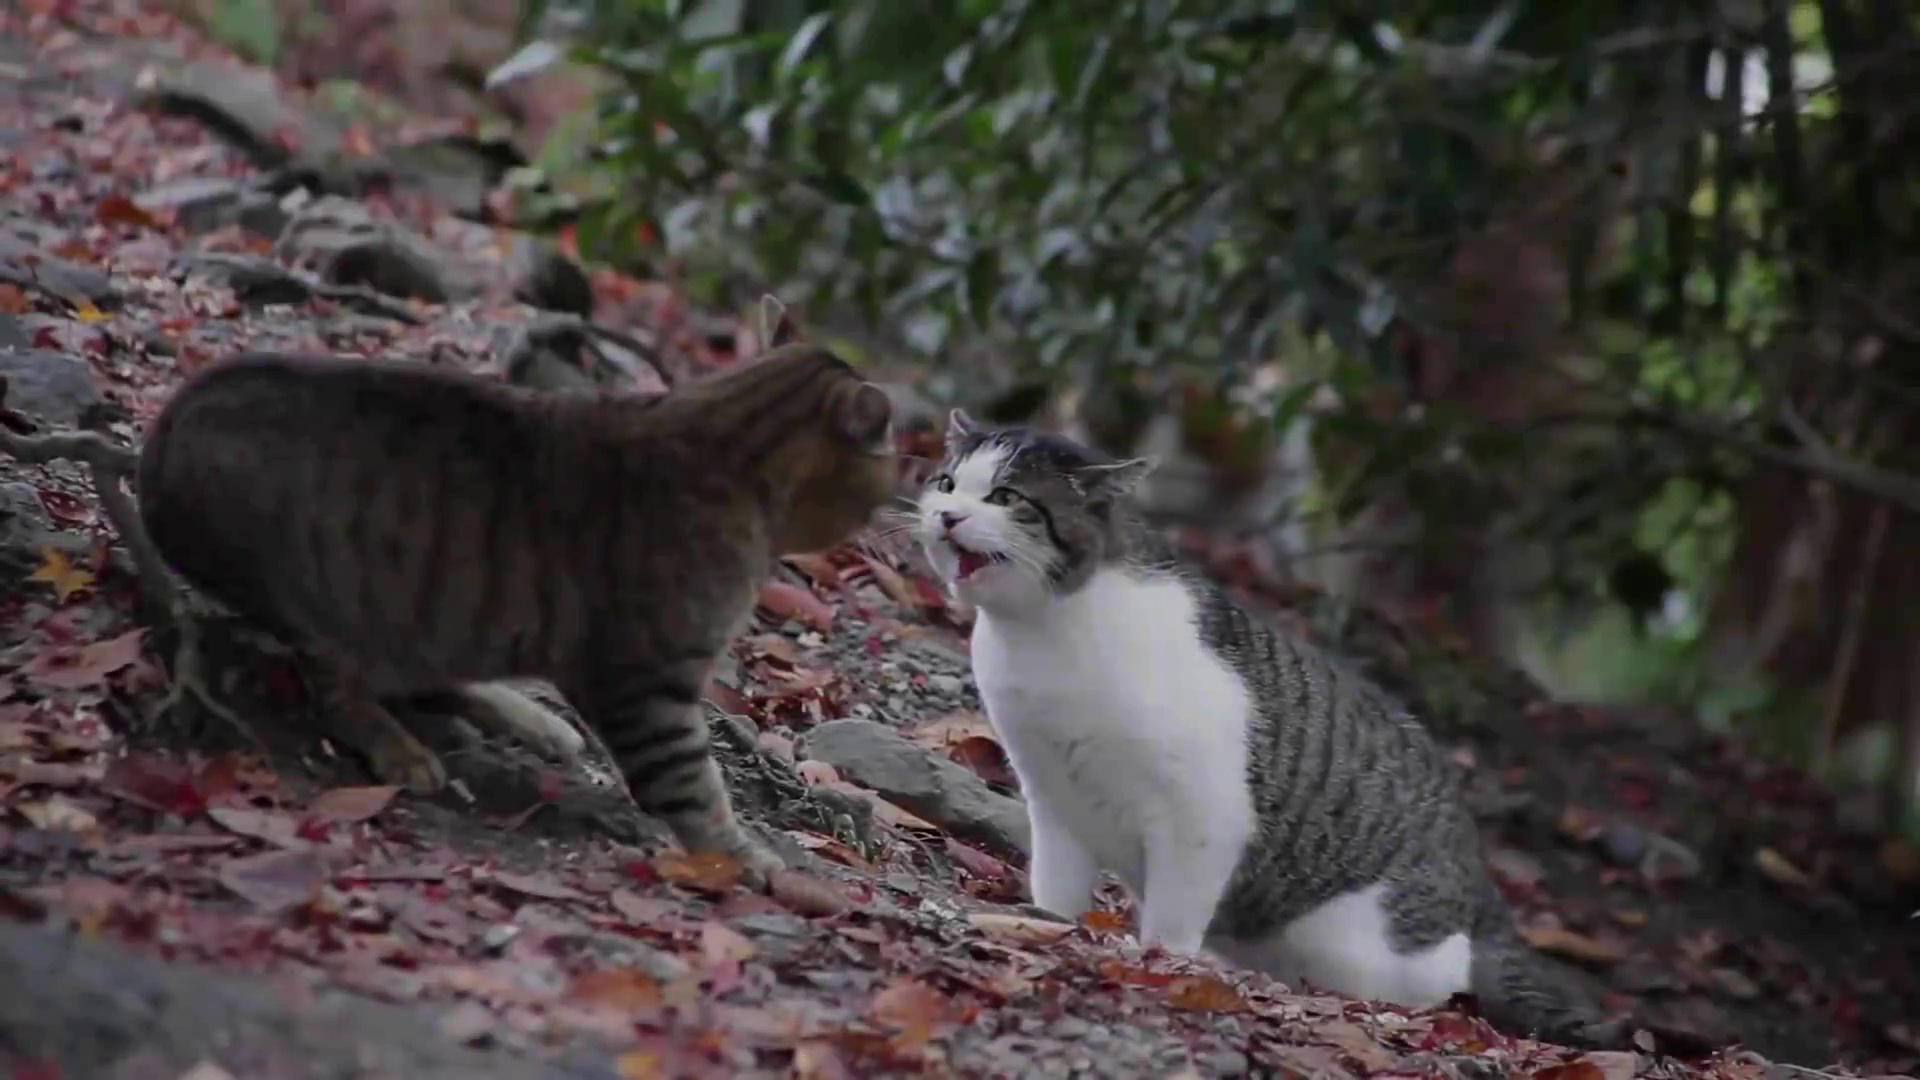black-white: (915, 406, 1501, 1018)
pure black: (133, 293, 902, 861)
